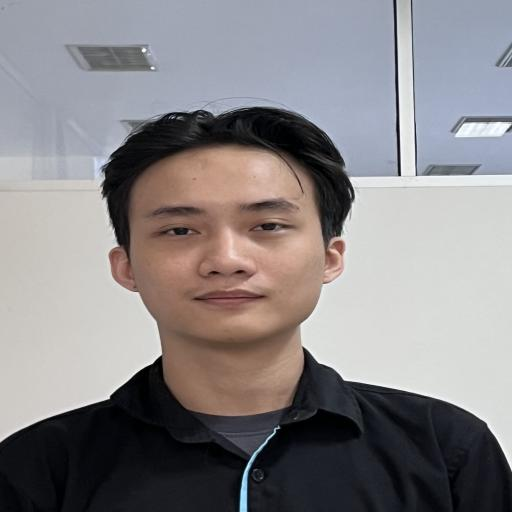wajah: (18, 79, 421, 413)
